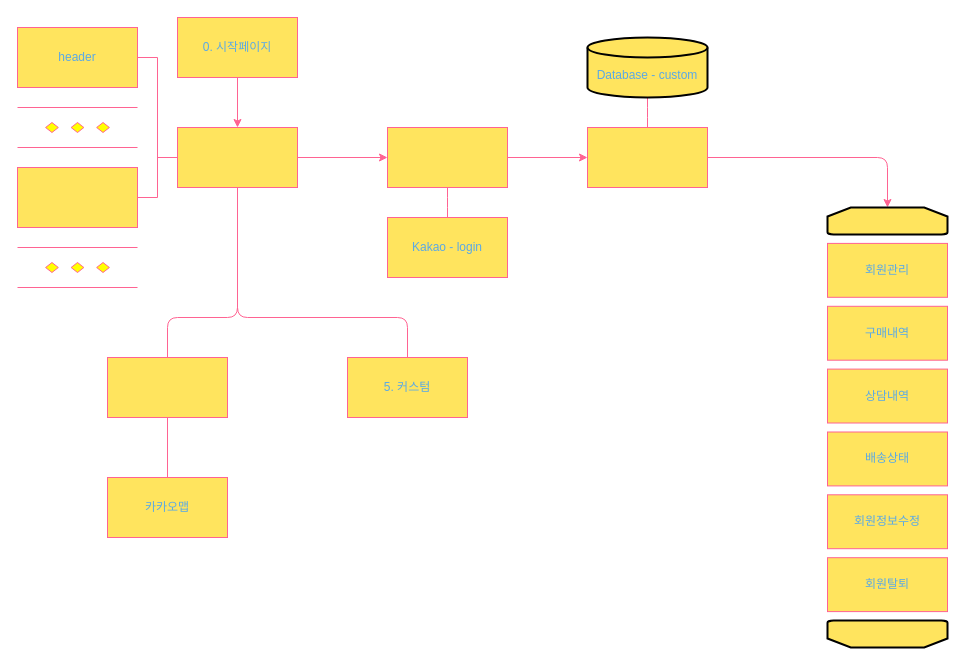
The diagram is 966 pixels wide and 666 high, and some of its shapes have lost their labels. The centre of each missing label's shape, as x and y in pixels:
"1. 메인 페이지" belongs at (237,157).
"2. 로그인" belongs at (447,157).
"3. 회원관리" belongs at (647,157).
"4. 오르다 소개" belongs at (167,387).
"footer" belongs at (77,197).
